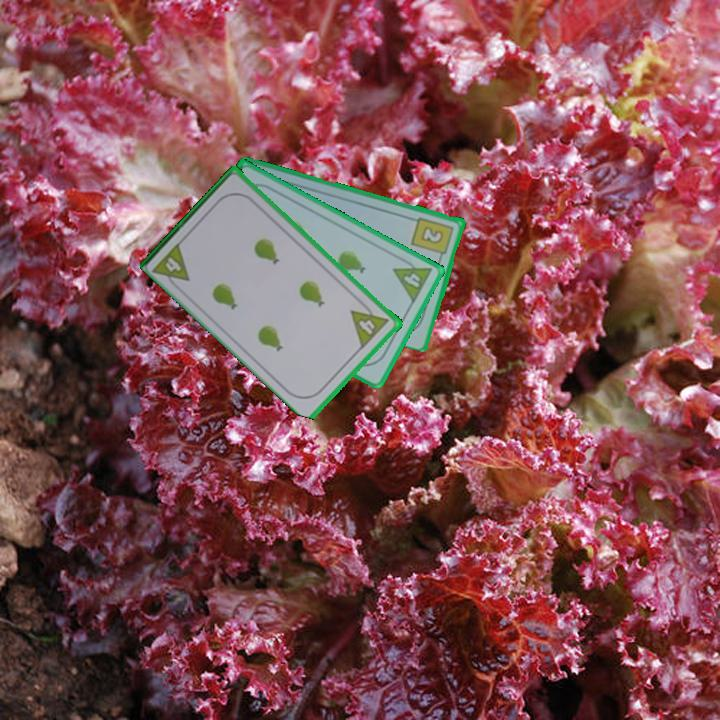2b: (409, 213, 457, 263)
4p: (390, 253, 435, 306), (347, 309, 381, 349), (162, 253, 185, 275)
